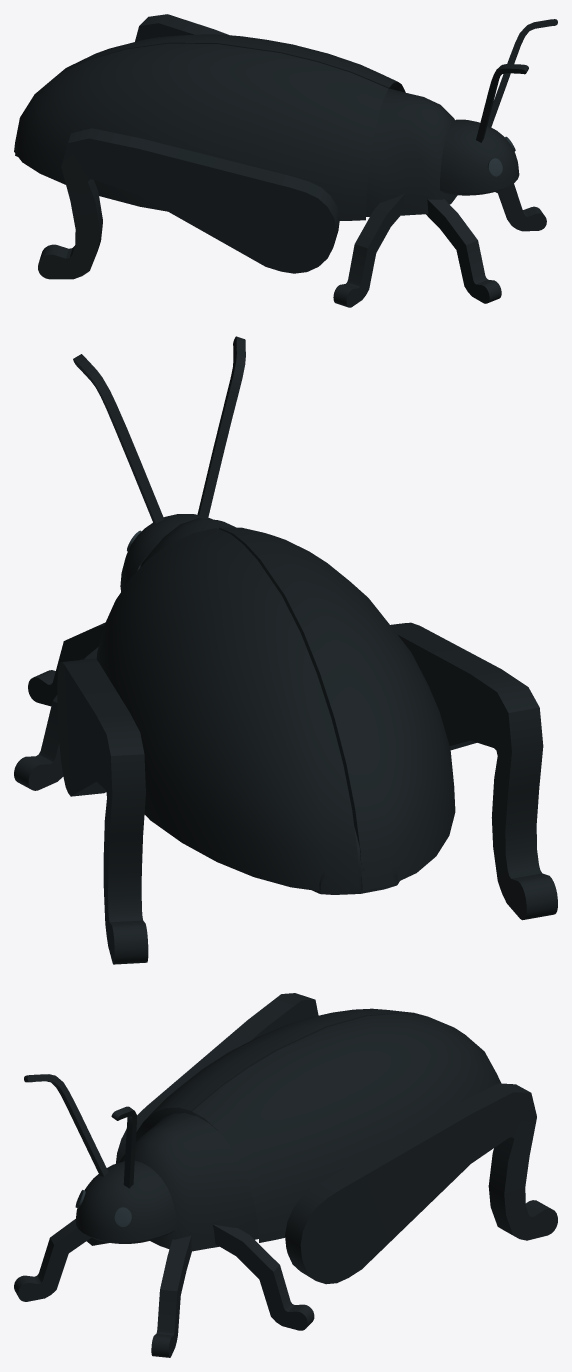
The model's file is cricket.glb.
The picture shows the model from 3 angles, top to bottom: view 1: azimuth 30°, elevation 25°; view 2: azimuth 150°, elevation 25°; view 3: azimuth 270°, elevation 25°; orthographic projection. The views are drawn at different scales.
Visible parts, largest first — view 1: Sphere.386, Cube.149, Cube.037, Cube.038, Cube.148; view 2: Sphere.386, Cube.149, Cube.148, Cube.038, Cube.037; view 3: Sphere.386, Cube.149, Cube.037, Cube.038, Cube.148.
Part boxes in pixels (box(x1,y1,x2,y2)): Sphere.386: box(14, 34, 405, 220); Cube.149: box(38, 14, 546, 307); Cube.037: box(15, 88, 457, 216); Cube.038: box(439, 119, 519, 195); Cube.148: box(476, 19, 557, 142); Sphere.386: box(96, 527, 455, 892); Cube.149: box(14, 622, 557, 964); Cube.148: box(73, 336, 245, 523); Cube.038: box(120, 514, 212, 591); Cube.037: box(140, 518, 399, 894); Sphere.386: box(135, 1008, 501, 1242); Cube.149: box(14, 993, 557, 1357); Cube.037: box(119, 1113, 258, 1251); Cube.038: box(75, 1160, 176, 1243); Cube.148: box(24, 1074, 136, 1188).
Size of the model in its own units: 2.17 by 1.07 by 2.17.
1 material, 1 textured.
